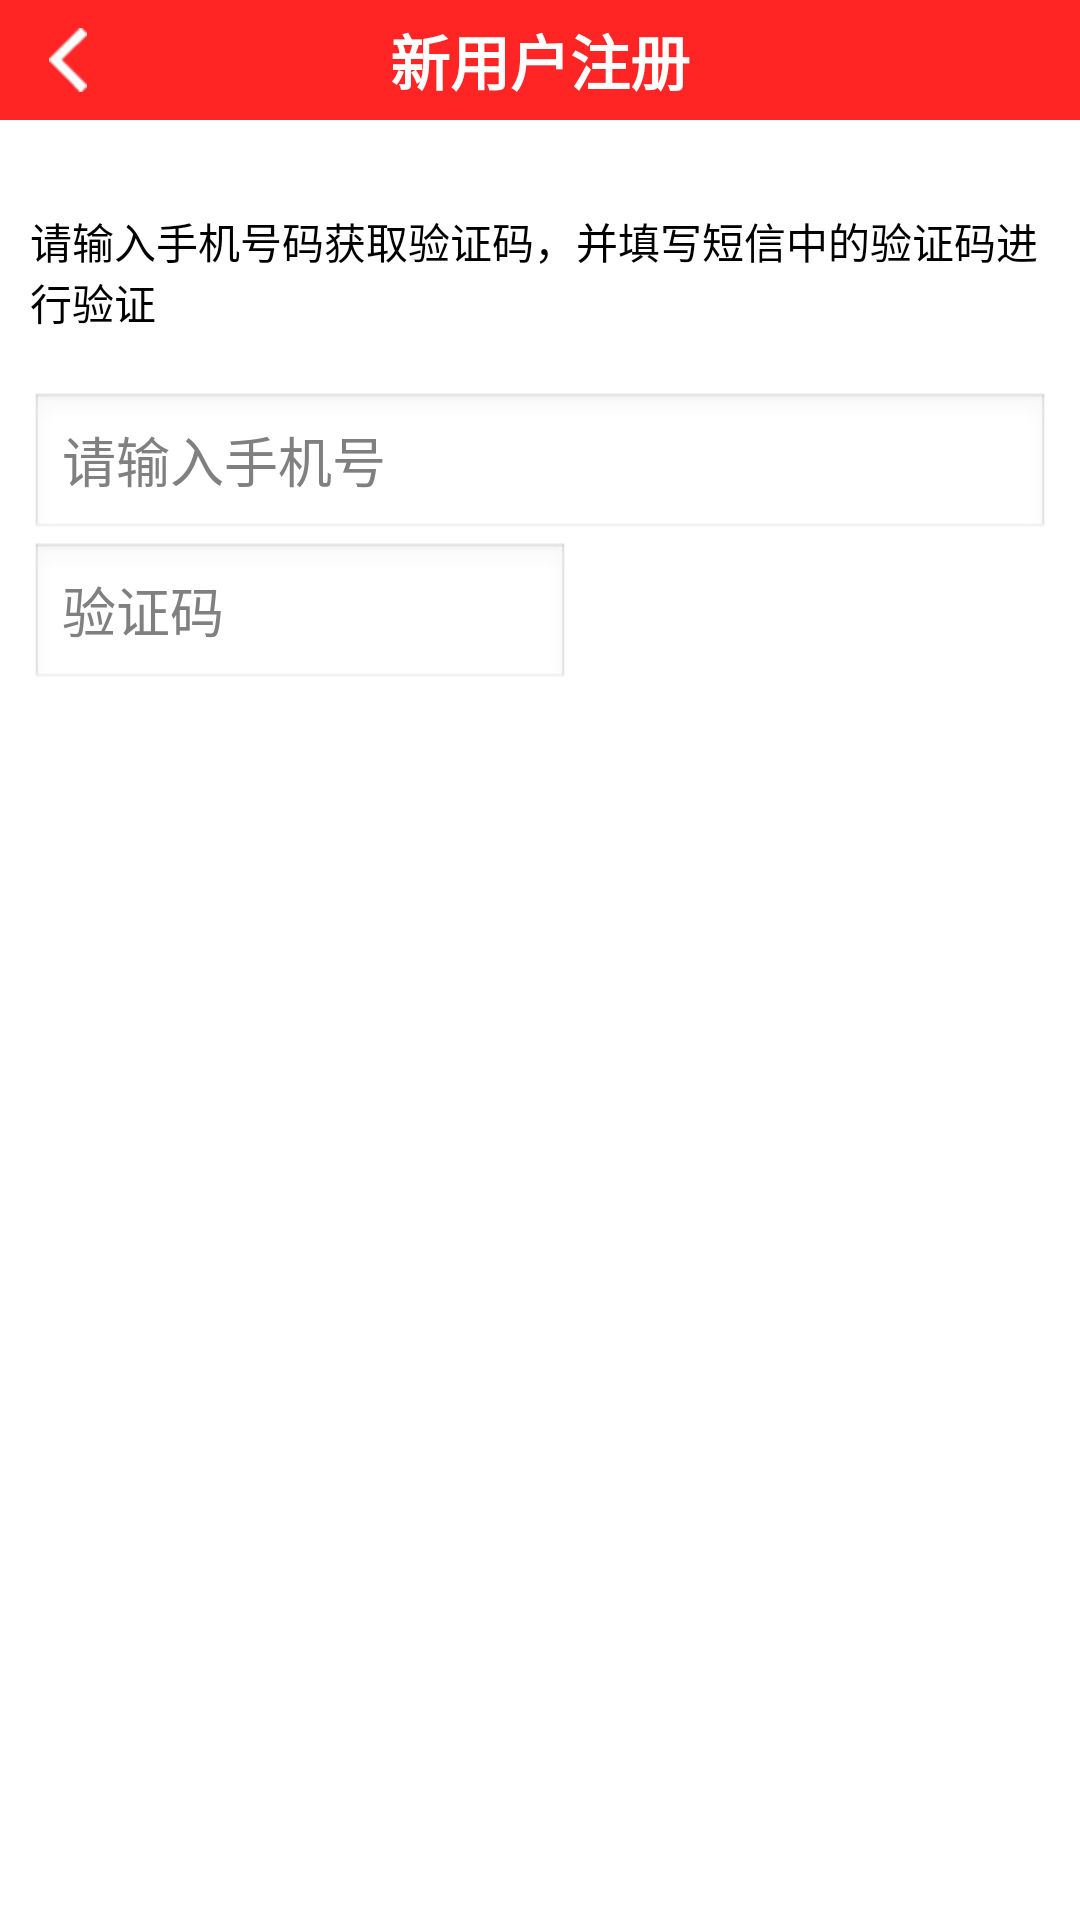

Icon bounding boxes for this 1080px×1920px phone screenshot, format (x1, y1, x2, y2):
return: (49, 28, 87, 92)
